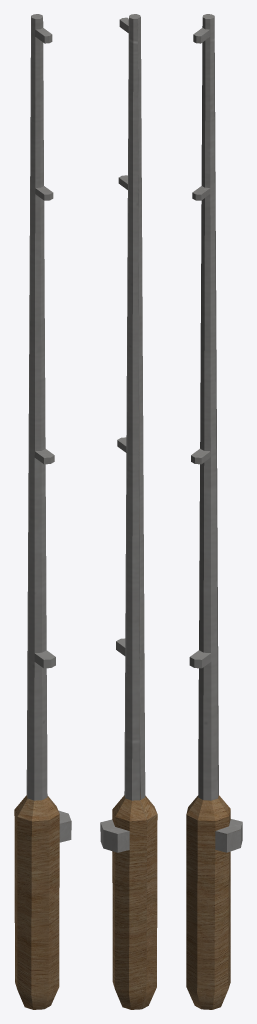
File: fishingrod_rod.obj
3 renders of one model, left to right at view 1: azimuth 30°, elevation 25°; view 2: azimuth 210°, elevation 25°; view 3: azimuth 330°, elevation 25°, orthographic.
Parts seen in each view (by area): view 1: Rod Fishingrod_grp; view 2: Rod Fishingrod_grp; view 3: Rod Fishingrod_grp.
Boxes of the visible parts, bbox=[...] form: Rod Fishingrod_grp: bbox=[14, 14, 71, 1009]; Rod Fishingrod_grp: bbox=[100, 14, 157, 1009]; Rod Fishingrod_grp: bbox=[186, 14, 242, 1009].
Bounding box in the file's own units: 5.91 × 107 × 5.08.
1 material, 1 textured.
